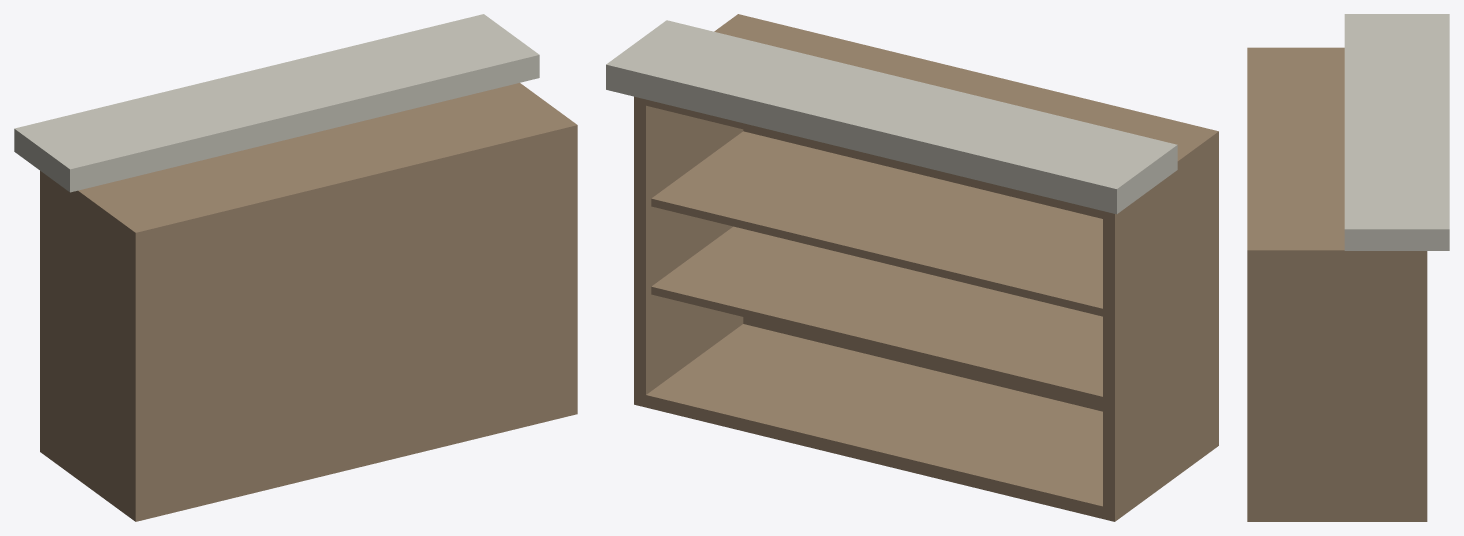
File: reception_desk.glb
3 renders of one model, left to right at view 1: azimuth 30°, elevation 25°; view 2: azimuth 150°, elevation 25°; view 3: azimuth 270°, elevation 25°, orthographic. The views are drawn at different scales.
Parts seen in each view (by area): view 1: body; view 2: body; view 3: body.
Part boxes in pixels (box(x1,y1,x2,y2)): body: box(14, 14, 577, 521); body: box(606, 14, 1218, 521); body: box(1247, 14, 1449, 521).
Bounding box in the file's own units: 1.7 × 1.1 × 0.675.
